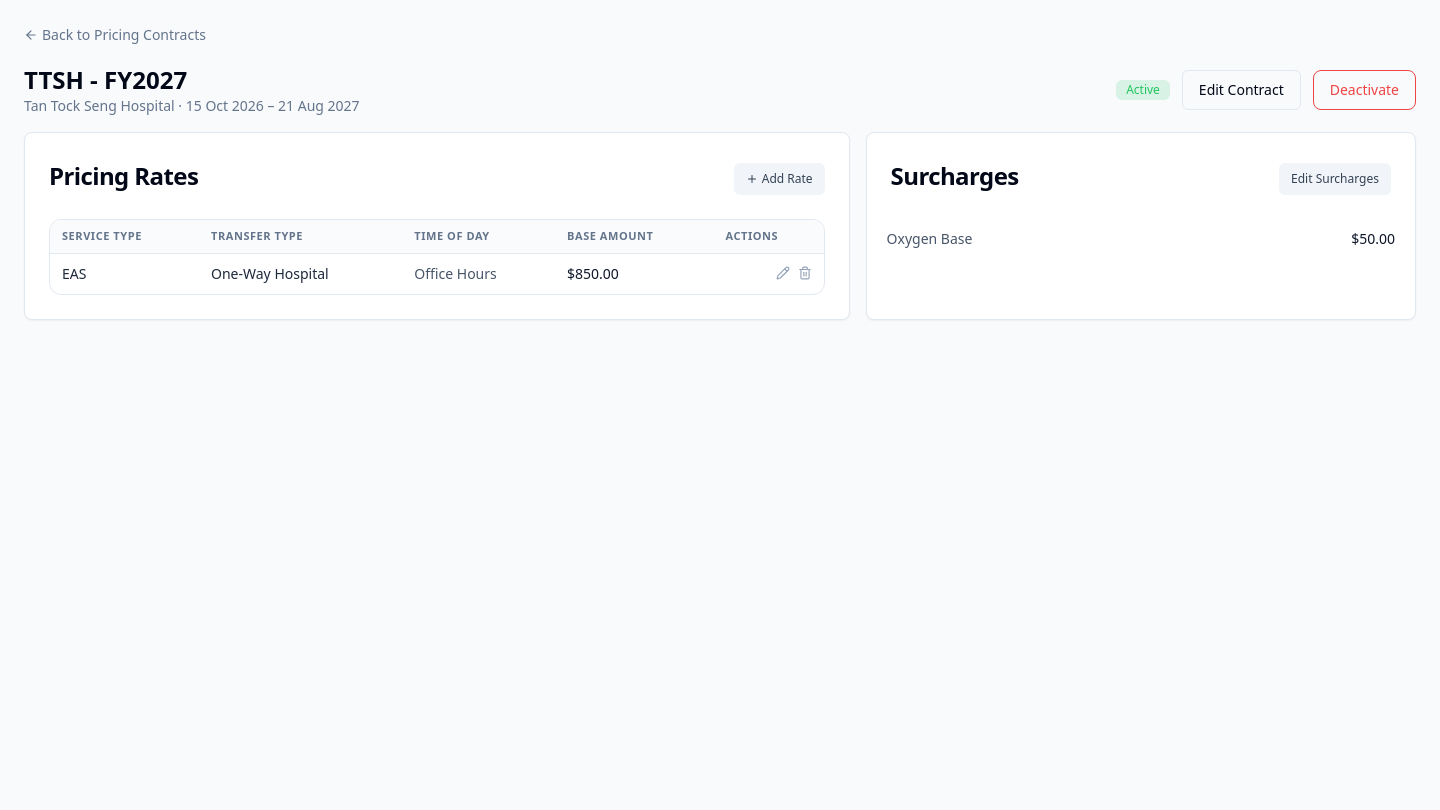
ContractDetailPage - edit and delete rate › editing a rate's amount sends a PUT and shows the updated value
Expected: the heading "TTSH - FY2027" is shown, [24, 63, 187, 96]
Click the 6th button. click: point(783, 272)
box: [776, 266, 790, 280]
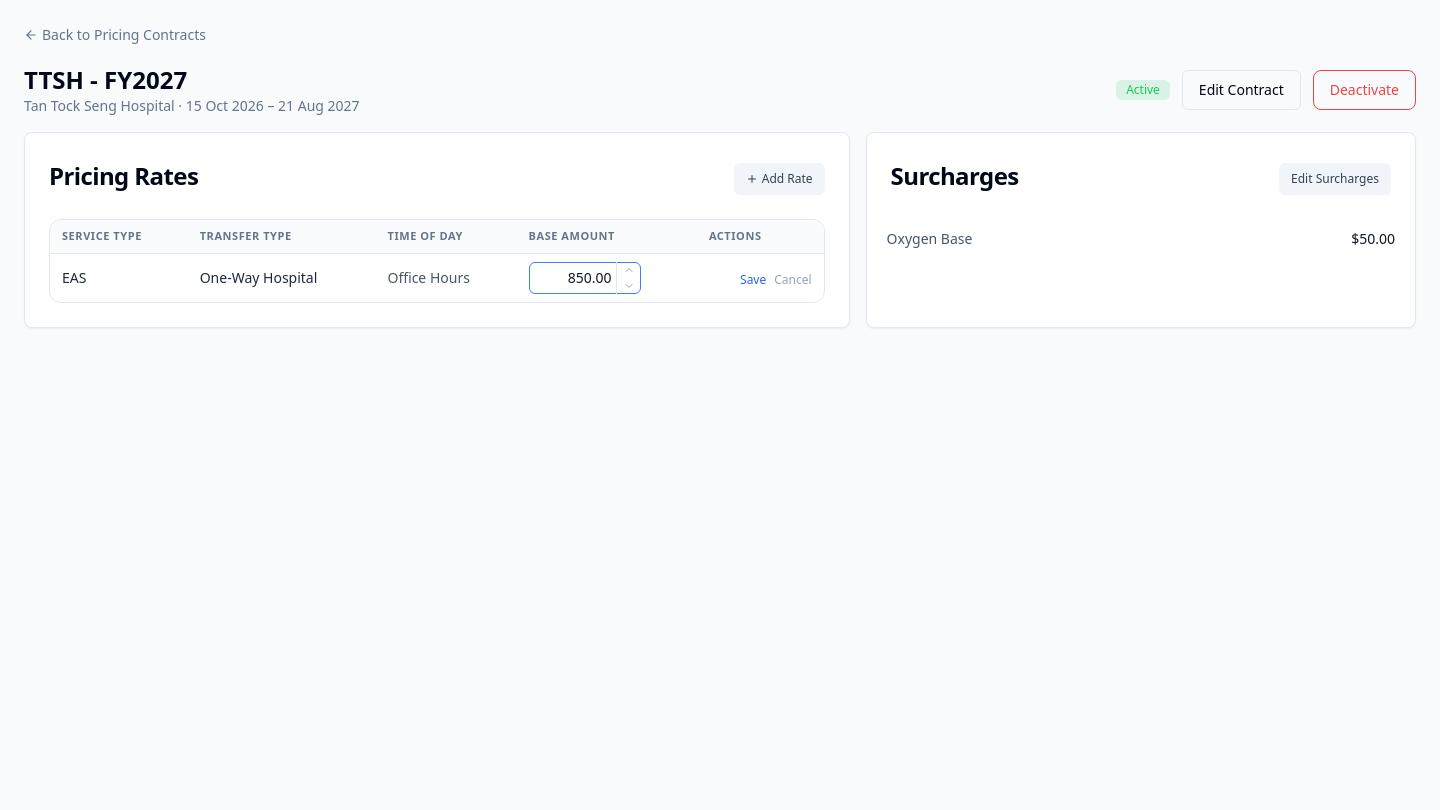
Replace the text in the field showing "850.00" with "950". click: point(584, 278)
box: [528, 262, 640, 294]
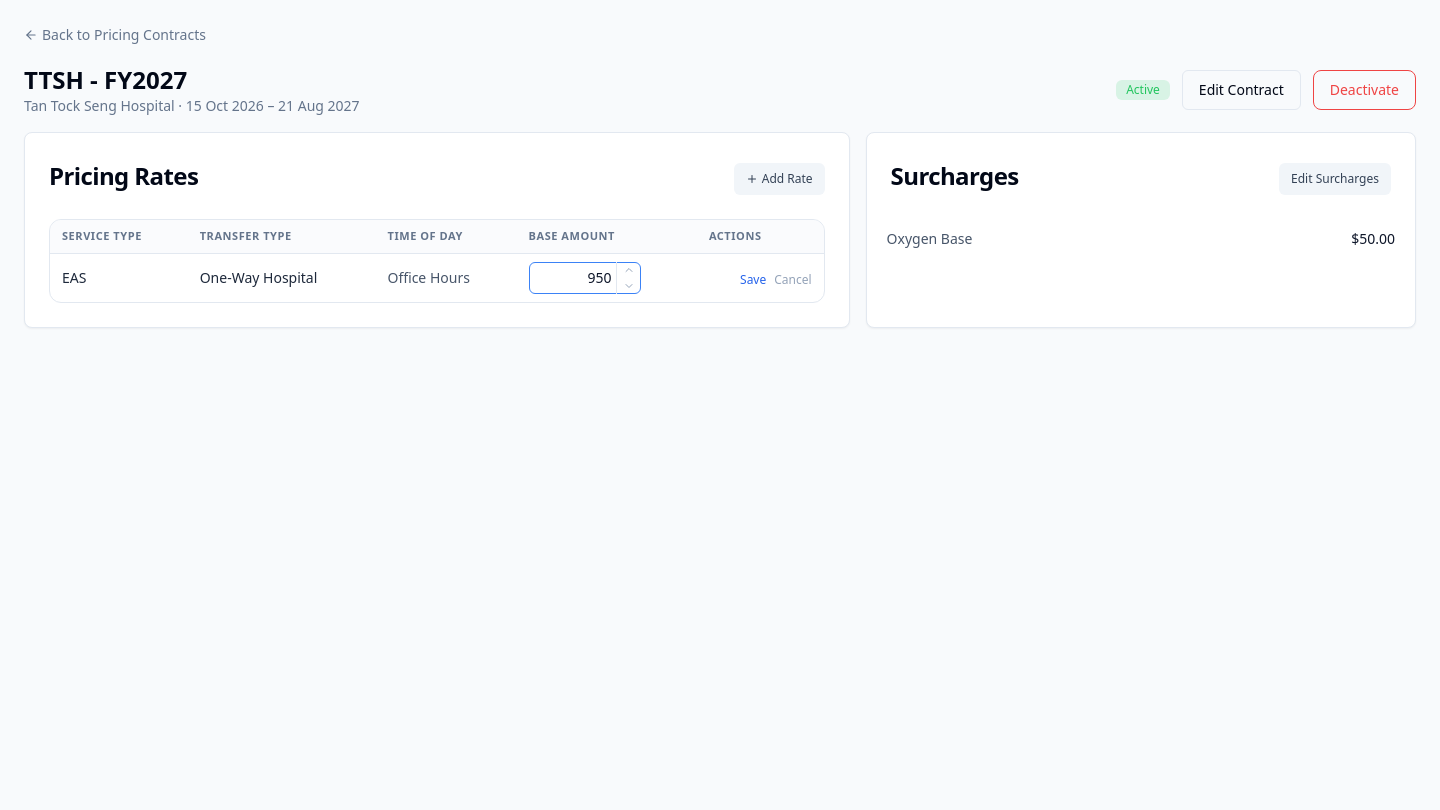
Click the button "Save". click: point(753, 280)
box: [740, 272, 766, 288]
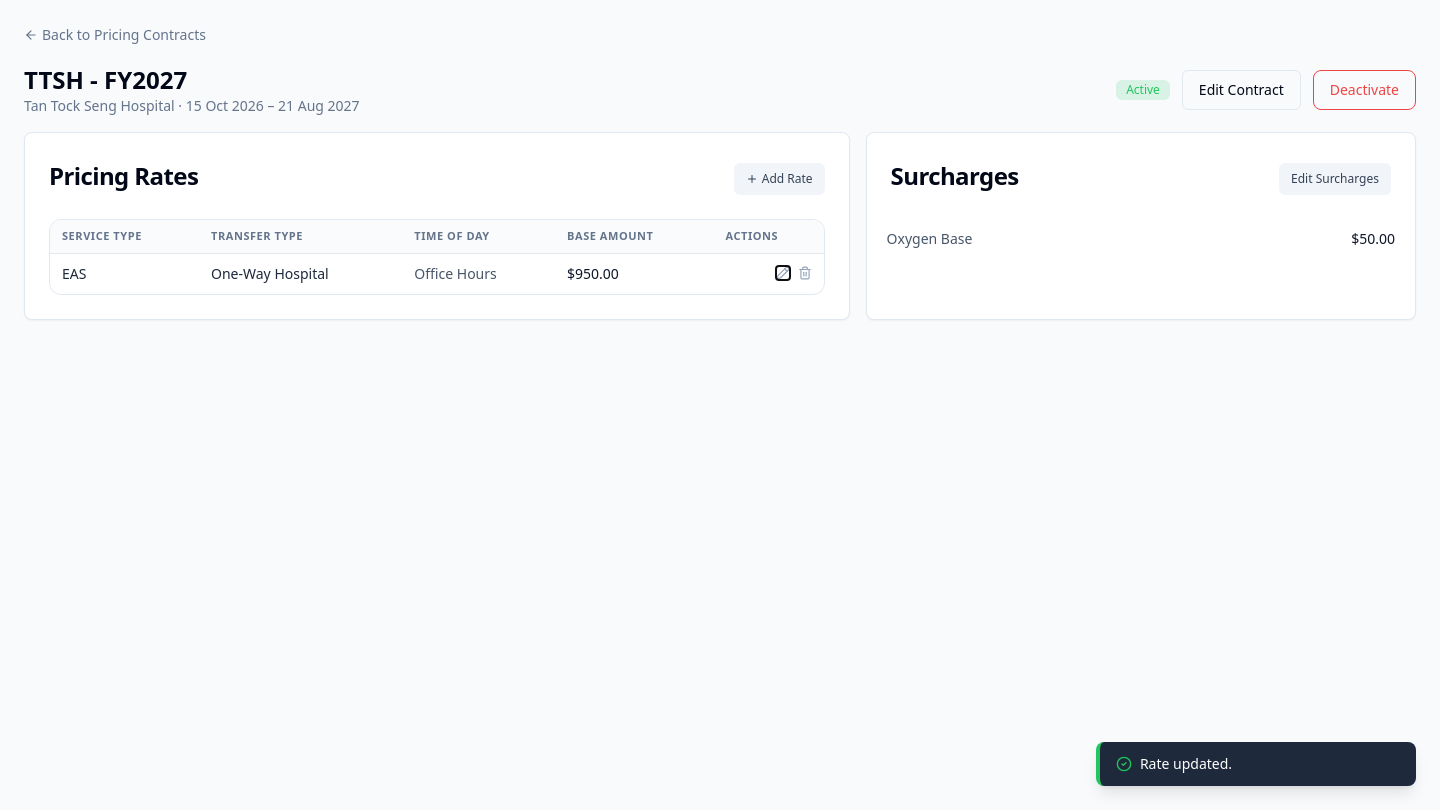
Expected: the message reads "Rate updated.", [1140, 754, 1232, 773]
